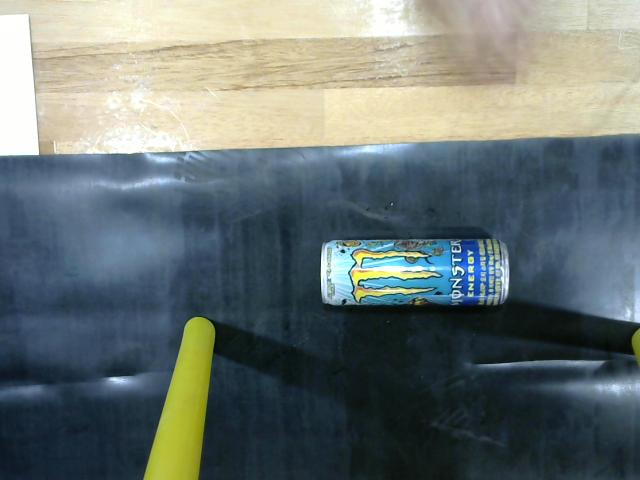can: (314, 233, 516, 314)
